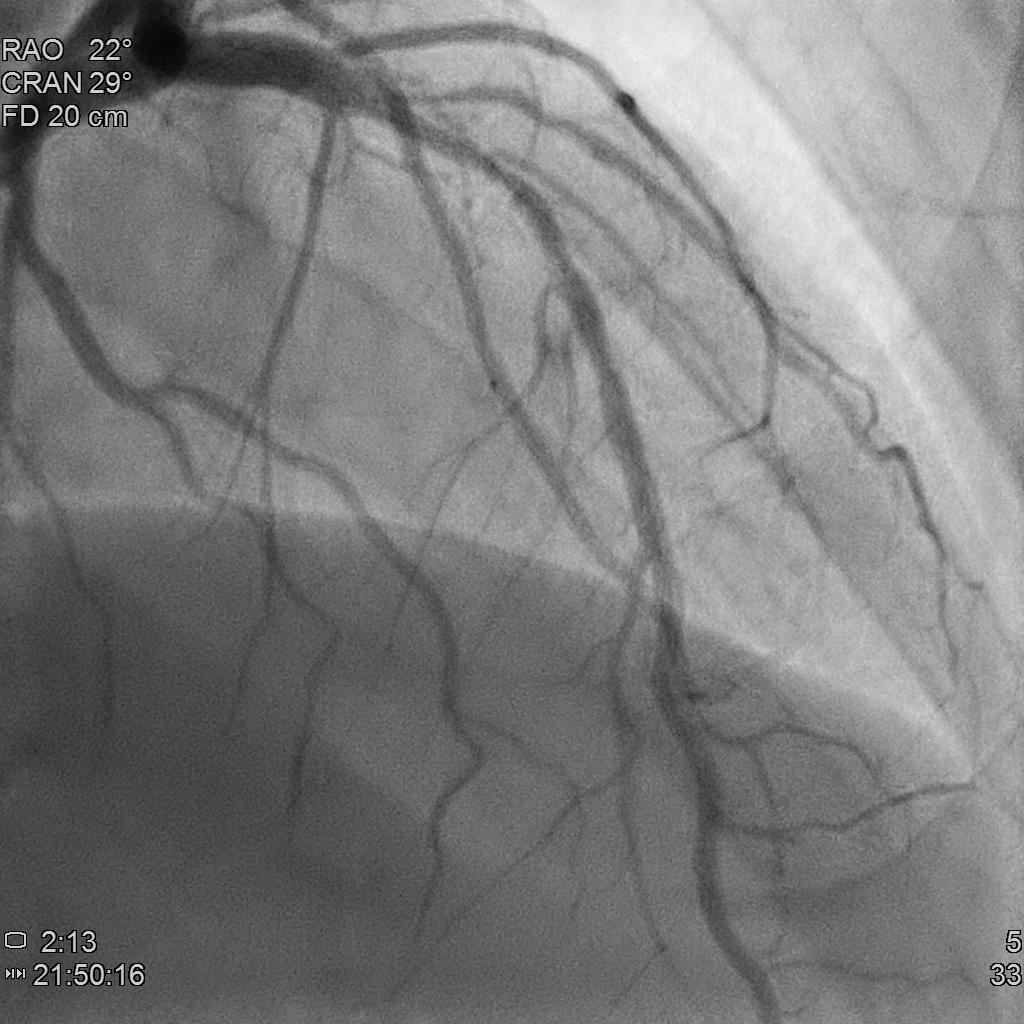block: (555, 316, 655, 407), (467, 147, 543, 217)
